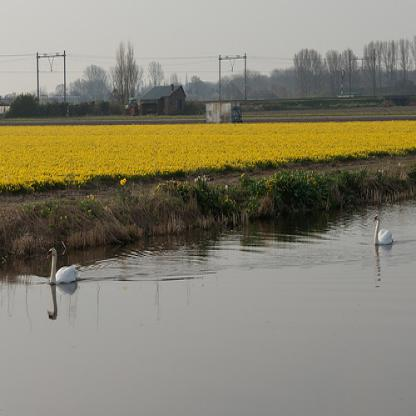TULIP: (5, 119, 413, 172)
